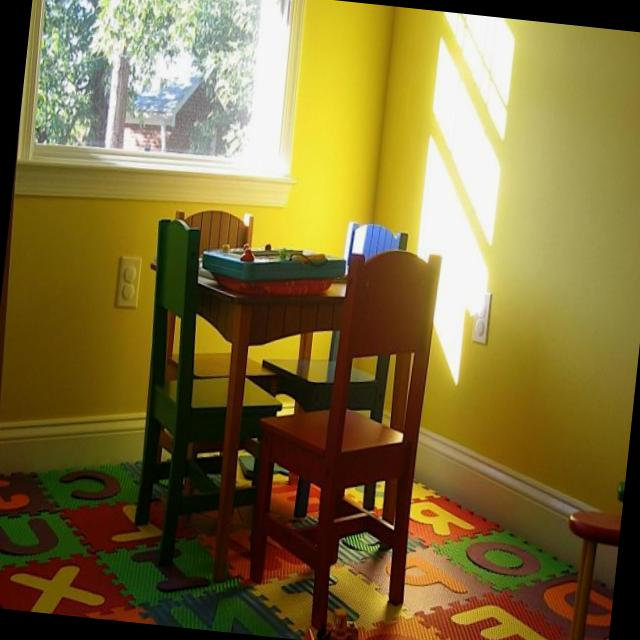carpet: (0, 422, 623, 640)
chair: (237, 234, 443, 640)
table: (119, 237, 361, 592)
window: (13, 0, 314, 215)
